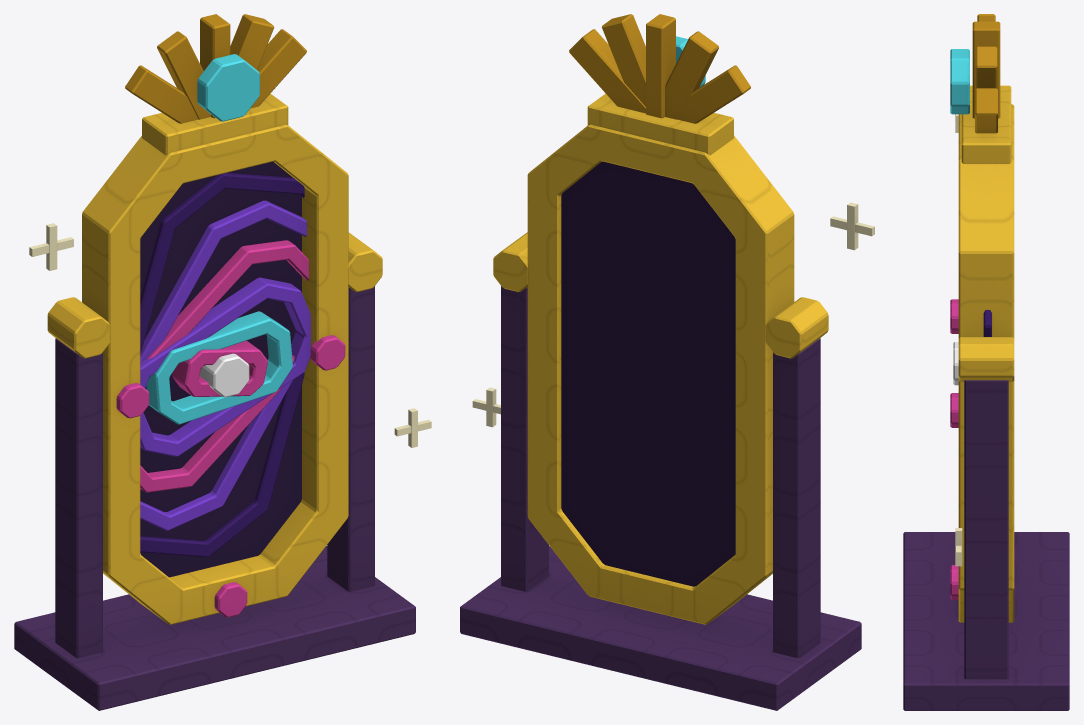
File: PortalMirror.fbx
3 views of the same model, side by side, from view 1: azimuth 30°, elevation 25°; view 2: azimuth 150°, elevation 25°; view 3: azimuth 270°, elevation 25° (orthographic).
Parts seen in each view (by area): view 1: Art_PortalMirror; view 2: Art_PortalMirror; view 3: Art_PortalMirror.
Part boxes in pixels (bbox=[...]): Art_PortalMirror: bbox=[14, 14, 431, 710]; Art_PortalMirror: bbox=[460, 14, 874, 710]; Art_PortalMirror: bbox=[903, 14, 1069, 710].
Bounding box in the file's own units: 3.26 × 4.85 × 1.2.
